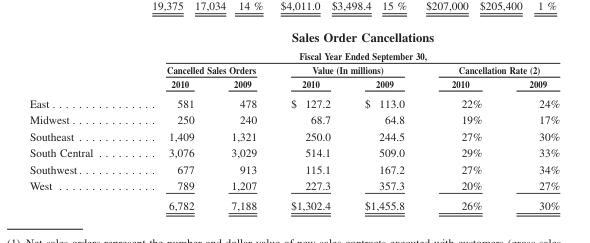table: (28, 29, 559, 211)
table column: (28, 29, 129, 211), (129, 29, 212, 211), (347, 29, 427, 211), (427, 29, 505, 211), (273, 29, 347, 211), (212, 29, 273, 211), (505, 29, 559, 211)
table column header: (28, 29, 559, 92)
table row: (28, 29, 559, 62), (28, 92, 559, 111), (28, 176, 559, 195), (28, 127, 559, 144), (28, 76, 559, 92), (28, 111, 559, 127), (28, 144, 559, 160), (28, 160, 559, 176), (28, 195, 559, 211), (28, 62, 559, 76)
table spanning cell: (129, 29, 559, 62), (273, 62, 427, 76), (129, 62, 273, 76), (427, 62, 559, 76)
